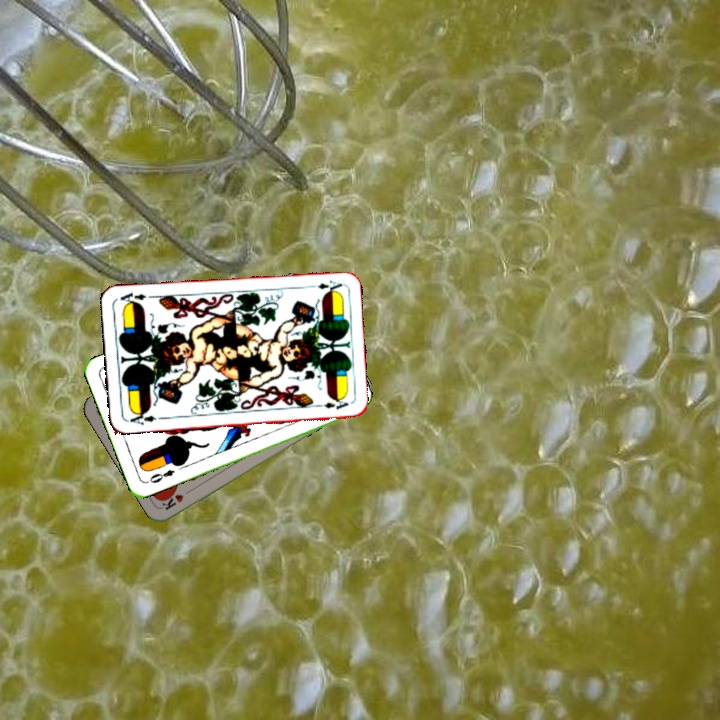EA: (304, 276, 344, 295), (123, 407, 159, 428)
EO: (142, 465, 177, 486)
HK: (158, 484, 196, 513)
